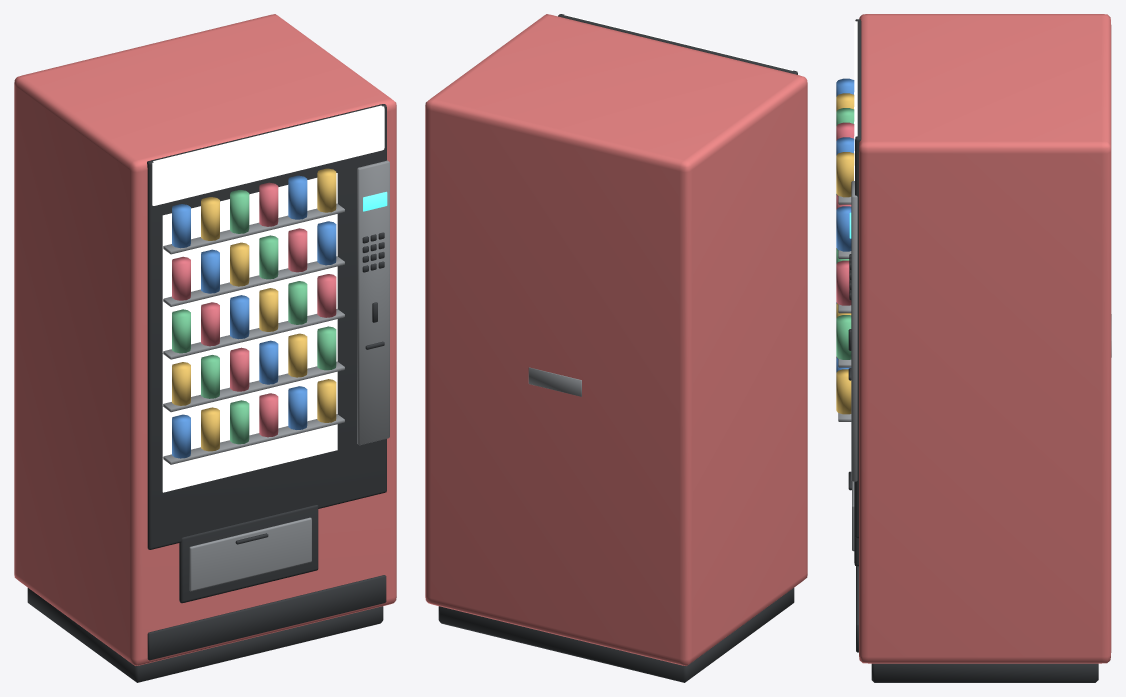
Rendered from shop-vending.glb.
3 views of the same model, side by side, from view 1: azimuth 30°, elevation 25°; view 2: azimuth 150°, elevation 25°; view 3: azimuth 270°, elevation 25° (orthographic). The views are drawn at different scales.
Visible parts, largest first — view 1: Body, Trim, Backlight, Shelf0, Can0_0, Can0_1, Can0_2, Can0_3; view 2: Body, Trim, Shelf0; view 3: Body, Trim, Shelf0, Can0_1, Can0_0, Can0_3, Can0_2, Backlight.
Part boxes in pixels (x1=…): Body: x1=14, y1=14, x2=396, y2=665; Trim: x1=27, y1=104, x2=386, y2=682; Backlight: x1=152, y1=105, x2=384, y2=492; Shelf0: x1=162, y1=160, x2=389, y2=591; Can0_0: x1=172, y1=175, x2=336, y2=458; Can0_1: x1=172, y1=168, x2=336, y2=451; Can0_2: x1=172, y1=190, x2=336, y2=444; Can0_3: x1=172, y1=182, x2=336, y2=437; Body: x1=425, y1=14, x2=807, y2=665; Trim: x1=438, y1=14, x2=797, y2=682; Shelf0: x1=528, y1=367, x2=581, y2=396; Body: x1=859, y1=14, x2=1111, y2=663; Trim: x1=848, y1=19, x2=1098, y2=682; Shelf0: x1=838, y1=181, x2=1111, y2=551; Can0_1: x1=836, y1=93, x2=854, y2=414; Can0_0: x1=836, y1=78, x2=854, y2=372; Can0_3: x1=836, y1=122, x2=854, y2=357; Can0_2: x1=836, y1=108, x2=854, y2=359; Backlight: x1=854, y1=21, x2=857, y2=180.
Size of the model in its own units: 1 by 1.9 by 0.874.
